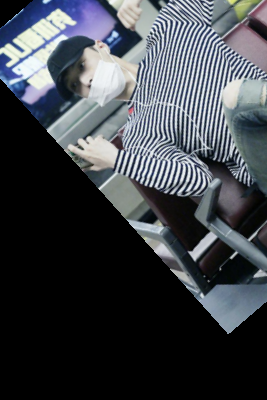mask_weared_incorrect: (40, 28, 138, 111)
